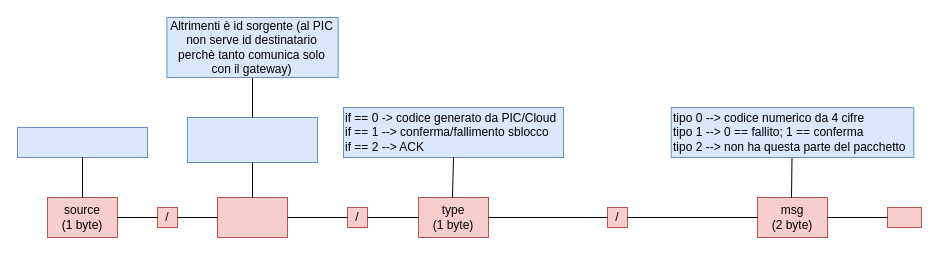
Image size: 939x255. Some labels were removed from this diagram. The centre of each missing label's shape, as x and y in pixels:
"/r/n" goes at (x=904, y=217).
"id_PIC (1 byte)" goes at (x=252, y=217).
"if == 0 -> PIC if == 1 -> RASPBERRY" goes at (x=82, y=142).
"Se il mittente è il Raspberry, questo diventa id destinatario" goes at (x=252, y=139).
